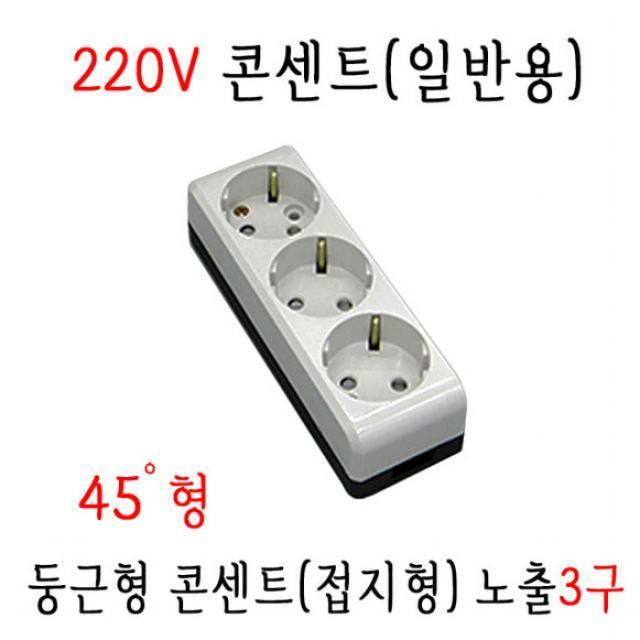typeb: (146, 125, 499, 485)
